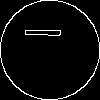I: (25, 25, 71, 40)
